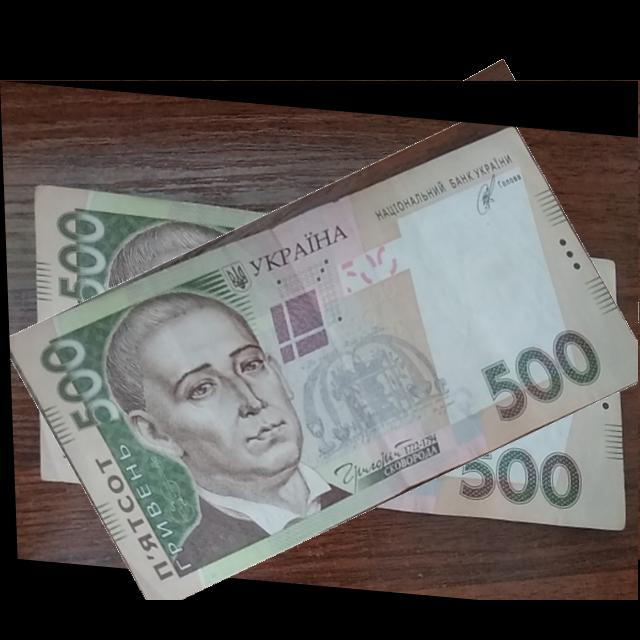500uah: (7, 118, 639, 601)
